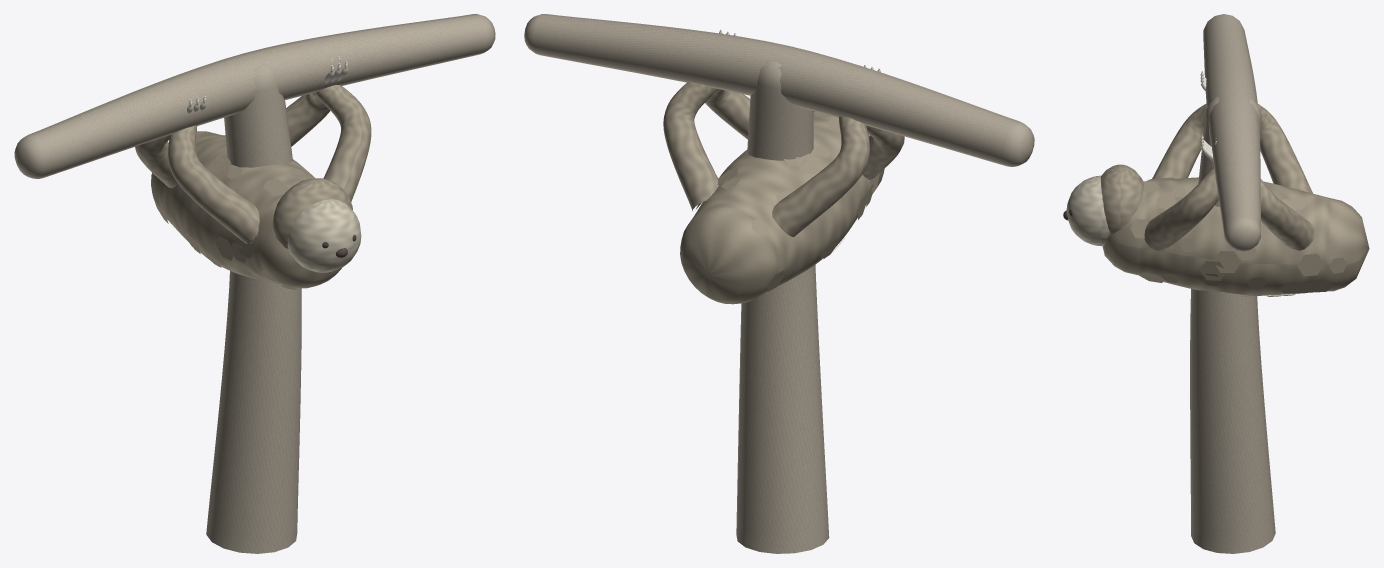
File: exotic-wildlife-hd-brown-throated-sloth-55bc669e__30218.glb
The picture shows the model from 3 angles, left to right: view 1: azimuth 30°, elevation 25°; view 2: azimuth 150°, elevation 25°; view 3: azimuth 270°, elevation 25°; orthographic projection. The views are drawn at different scales.
Parts seen in each view (by area): view 1: brown-throated-sloth; view 2: brown-throated-sloth; view 3: brown-throated-sloth.
Part boxes in pixels (x1=…): brown-throated-sloth: x1=14, y1=14, x2=495, y2=553; brown-throated-sloth: x1=524, y1=14, x2=1034, y2=553; brown-throated-sloth: x1=1063, y1=14, x2=1369, y2=553.
Bounding box in the file's own units: 1.1 × 1.04 × 0.651.
Materials: 6 (4 with a texture image).
